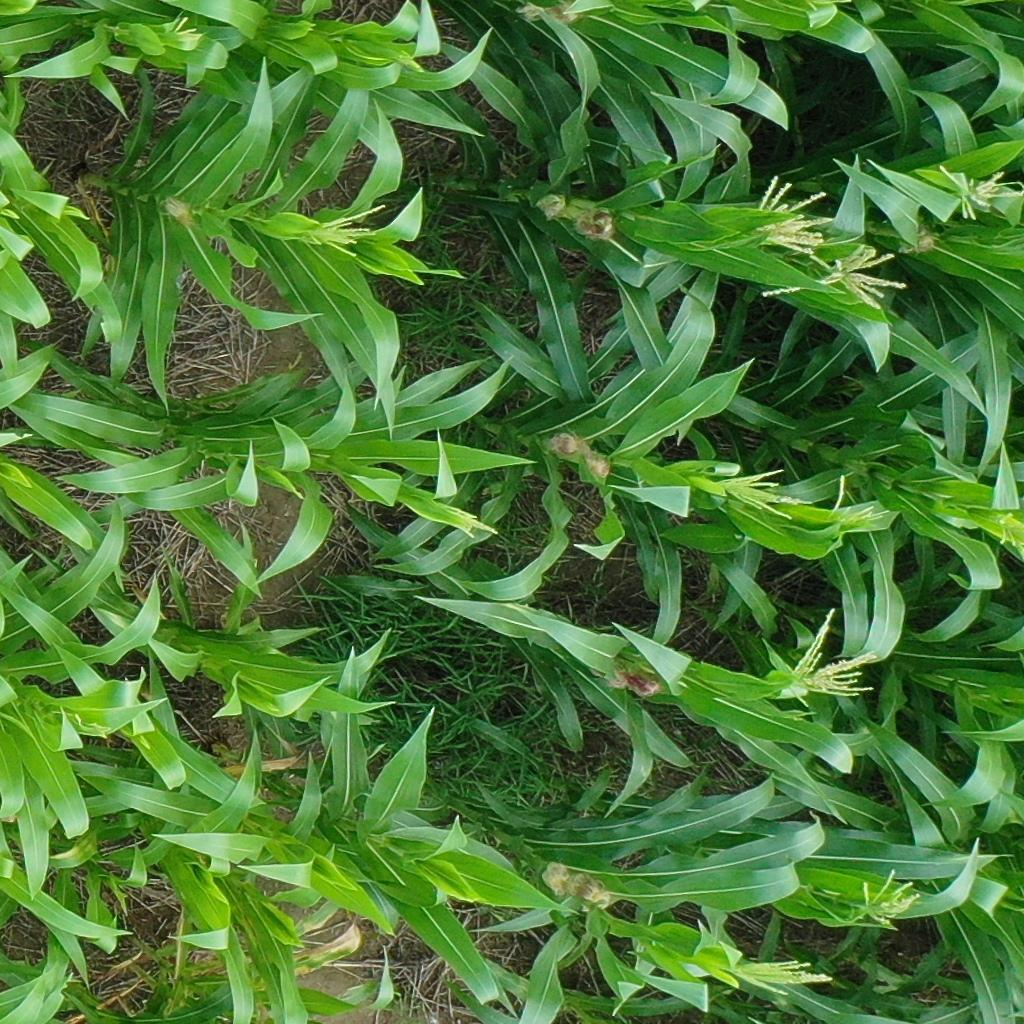Tassel: (752, 172, 911, 309), (785, 604, 880, 706), (717, 464, 812, 522), (307, 203, 393, 258), (933, 161, 1010, 221), (733, 956, 833, 1001), (858, 866, 916, 930), (829, 473, 889, 531), (440, 500, 502, 543), (996, 509, 1024, 553), (170, 16, 201, 38)
